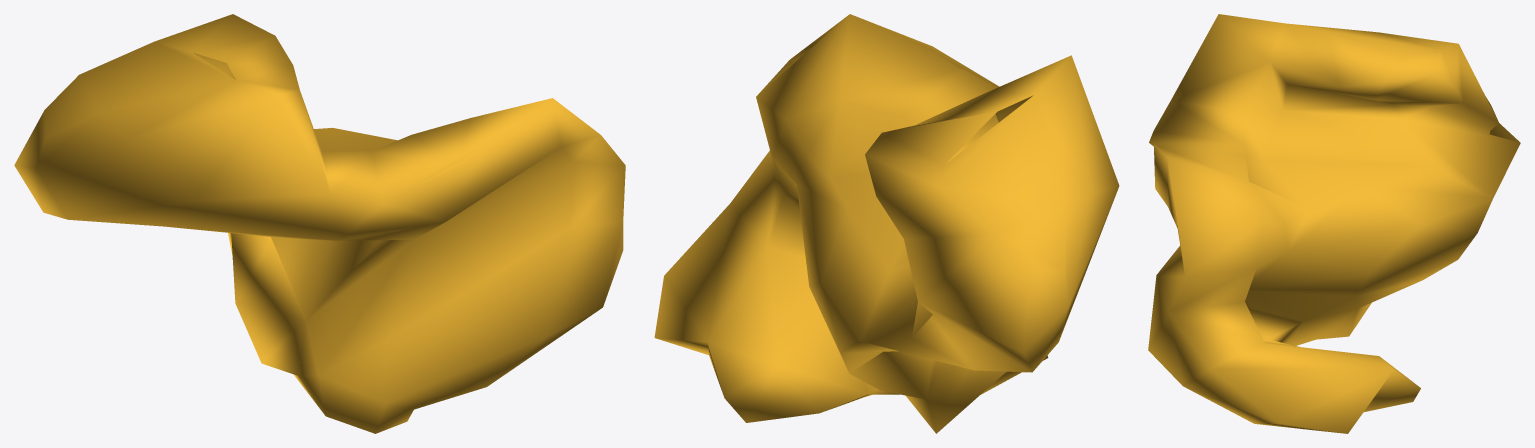
File: nervoso-transverse-frontopolar-gyrus-and-sulcus-r.glb
3 renders of one model, left to right at view 1: azimuth 30°, elevation 25°; view 2: azimuth 150°, elevation 25°; view 3: azimuth 270°, elevation 25°, orthographic. The views are drawn at different scales.
Parts seen in each view (by area): view 1: Transverse frontopolar gyrus and sulcus*.r; view 2: Transverse frontopolar gyrus and sulcus*.r; view 3: Transverse frontopolar gyrus and sulcus*.r.
Boxes of the visible parts, <box> form: Transverse frontopolar gyrus and sulcus*.r: <box>14,14,625,433</box>; Transverse frontopolar gyrus and sulcus*.r: <box>654,14,1119,433</box>; Transverse frontopolar gyrus and sulcus*.r: <box>1148,14,1520,433</box>.
Bounding box in the file's own units: 0.0232 × 0.0158 × 0.0174.
